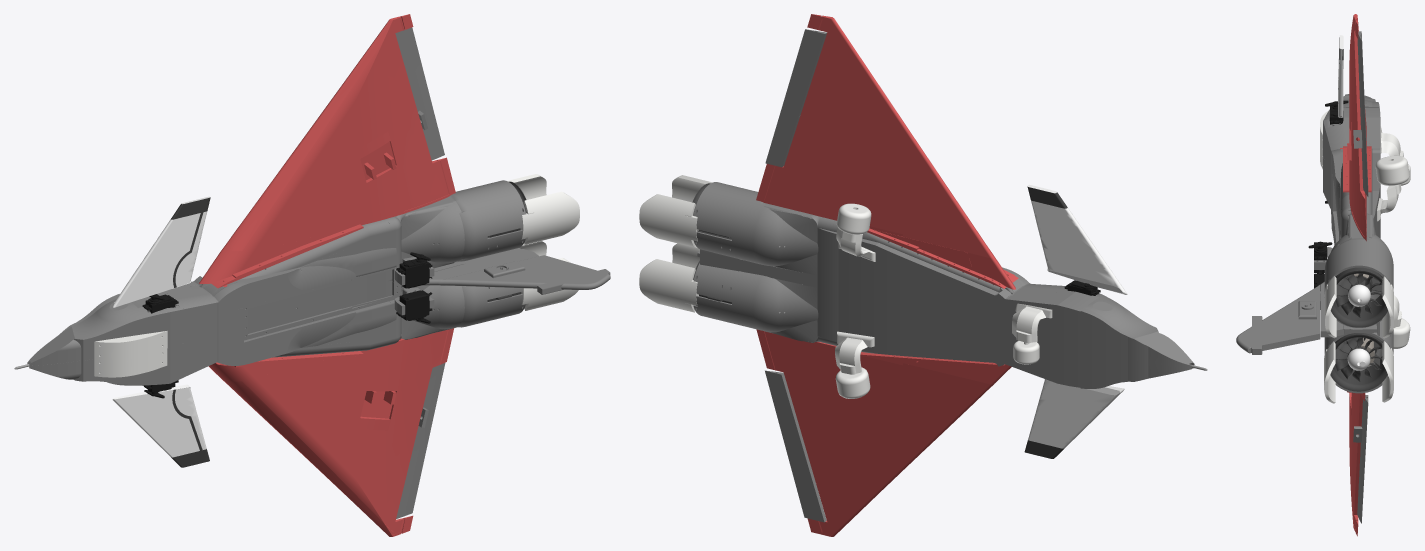
The picture shows the model from 3 angles, left to right: view 1: azimuth 30°, elevation 25°; view 2: azimuth 150°, elevation 25°; view 3: azimuth 270°, elevation 25°; orthographic projection.
Visible parts, largest first — view 1: =>[0:1:1:11]; view 2: =>[0:1:1:11]; view 3: =>[0:1:1:11], fms_80mm_duct:1 (×2), fms_80mm_blade:1 (×2), fms_80mm_dome:1 (×2).
Boxes of the visible parts, x1,y1,x2,y2 form: =>[0:1:1:11]: (14,14,610,536); =>[0:1:1:11]: (639,14,1207,536); =>[0:1:1:11]: (1236,14,1410,536); fms_80mm_duct:1 (×2): (1330,267,1387,391); fms_80mm_blade:1 (×2): (1335,273,1382,381); fms_80mm_dome:1 (×2): (1347,284,1370,370).
Size of the model in its own units: 0.9586 by 0.8623 by 0.2663.
